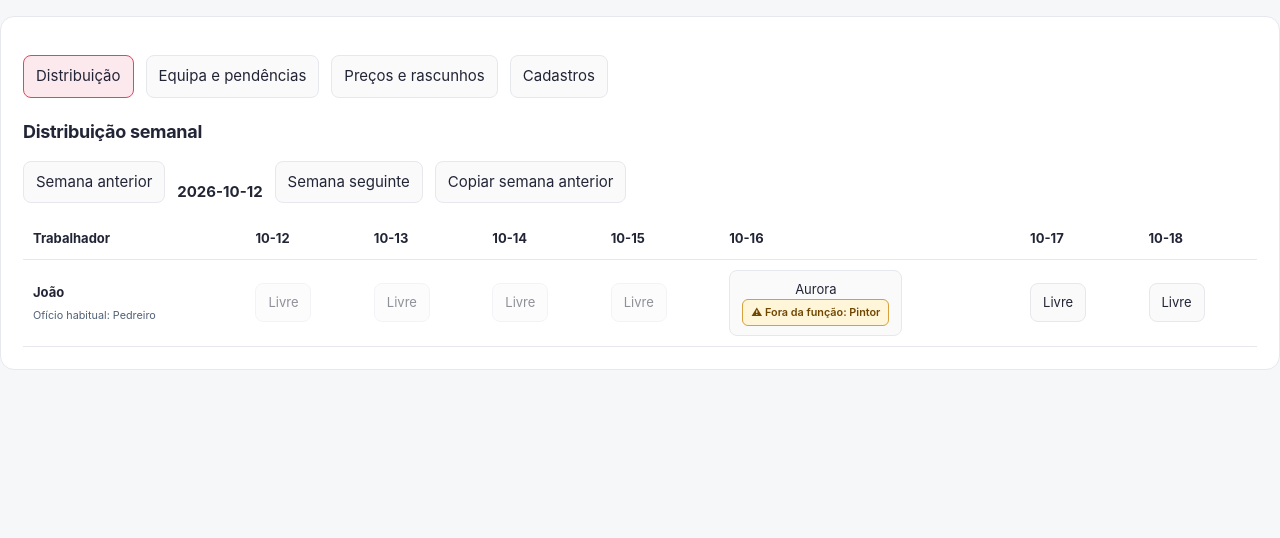
Test: sinaliza a alocação fora da função na célula e ao escolher o ofício alternativo
The image size is (1280, 538).
Click the button "Aurora ⚠ Fora da função: Pintor".
click(816, 303)  # box [729,270,902,336]
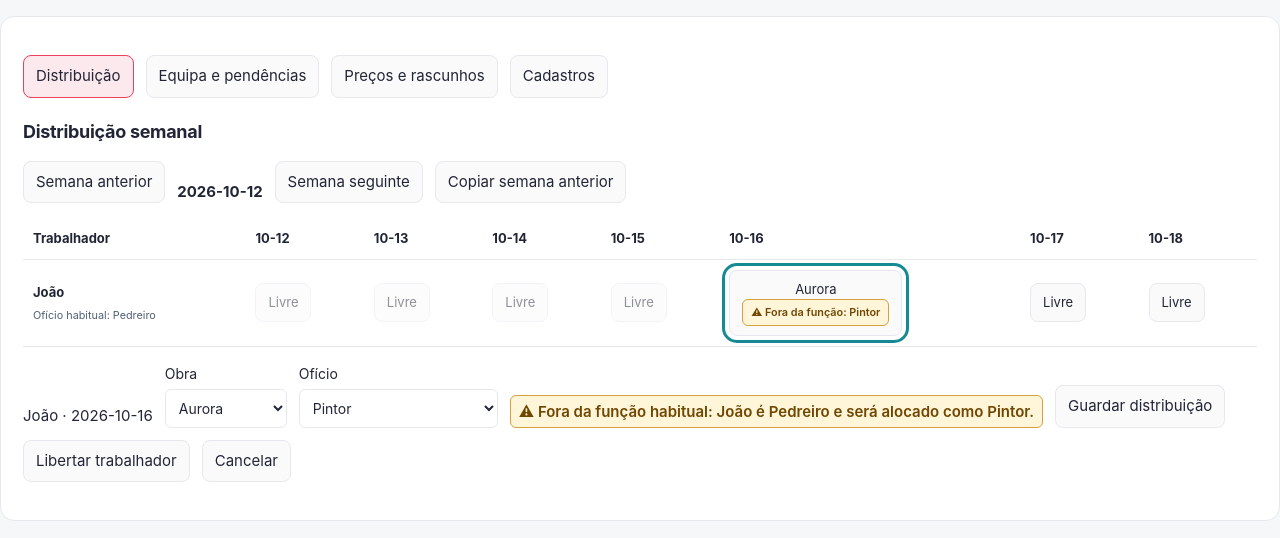
Check: the text "Fora da função: Pintor" is shown, box [742,299,890,326]
Check: the message shows "João é Pedreiro e será alocado como Pintor", box [510,395,1043,428]
Select "Ofício habitual: Pedreiro" in the dropdown labelled "Ofício" at (398, 408), box [299,389,498,428]
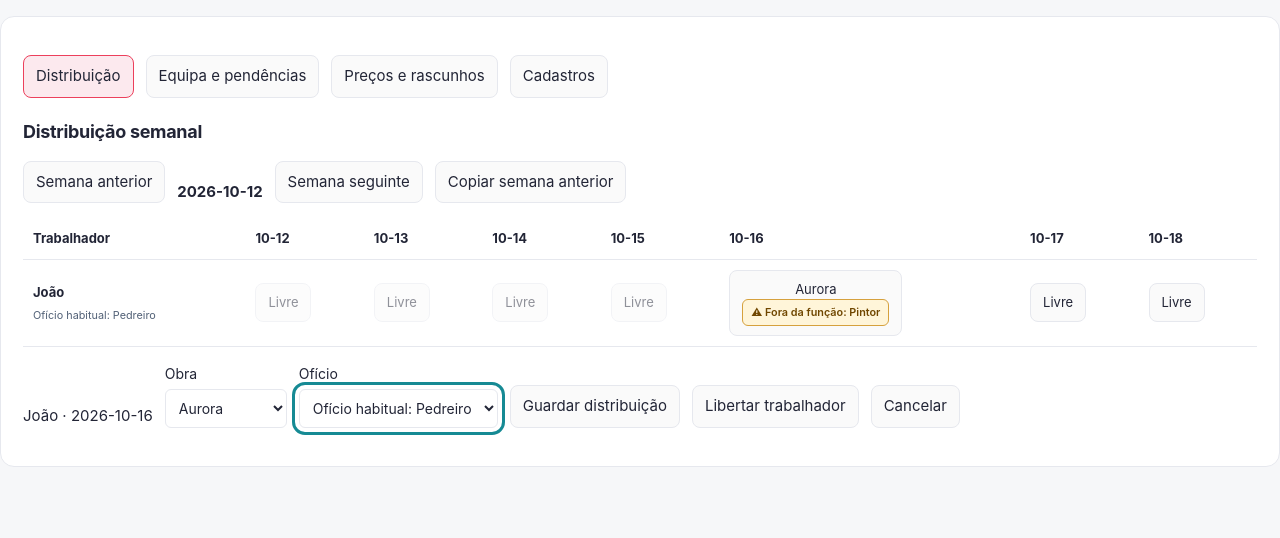
Check: the text "Fora da função: Pintor" is shown, box [742,299,890,326]
Check: the text "será alocado como Pintor" is gone
